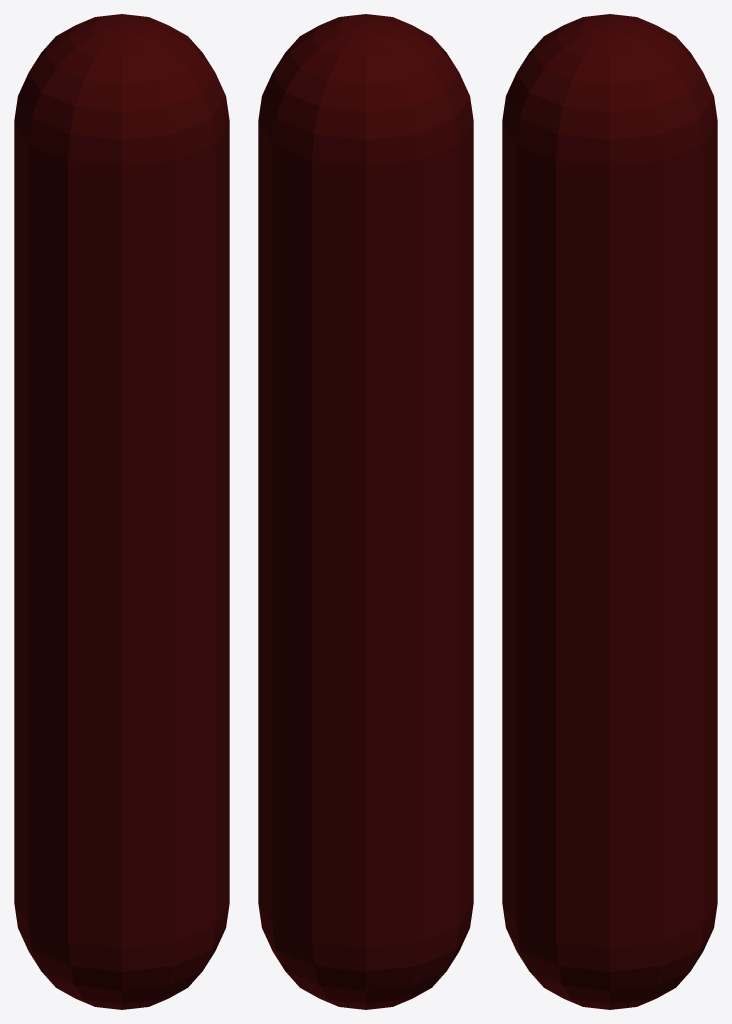
The model's file is rope.fbx.
3 views of the same model, side by side, from view 1: azimuth 30°, elevation 25°; view 2: azimuth 150°, elevation 25°; view 3: azimuth 270°, elevation 25° (orthographic).
Visible parts, largest first — view 1: rope_segment; view 2: rope_segment; view 3: rope_segment.
Boxes of the visible parts, box(x1,y1,x2,y2) form: rope_segment: box(14, 14, 229, 1009); rope_segment: box(258, 14, 473, 1009); rope_segment: box(502, 14, 717, 1009).
Size of the model in its own units: 200 by 1000 by 200.
